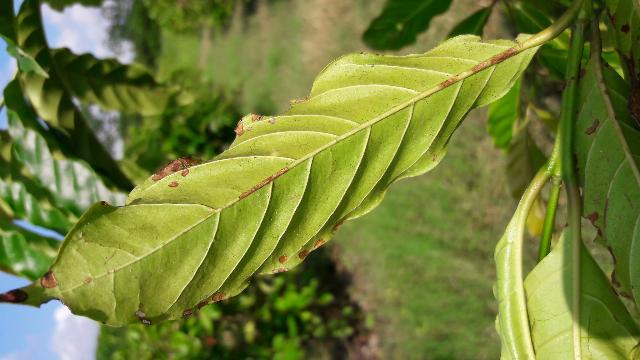red_spider_mite: (0, 31, 553, 325)
